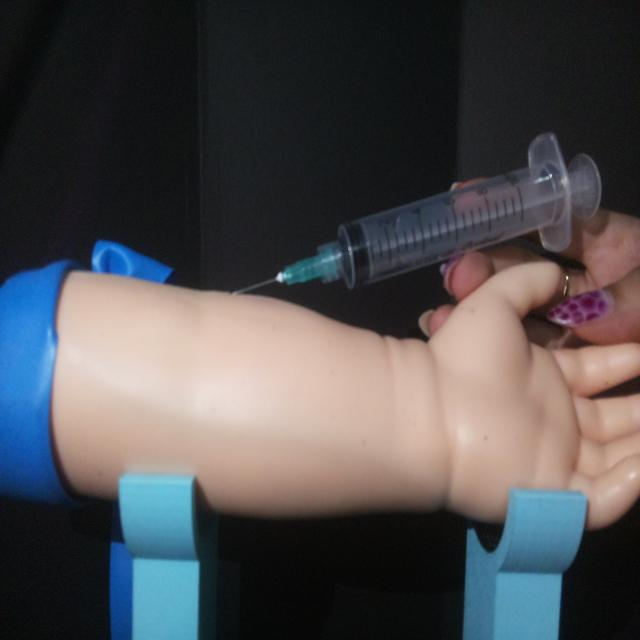23deg: (227, 127, 605, 302)
